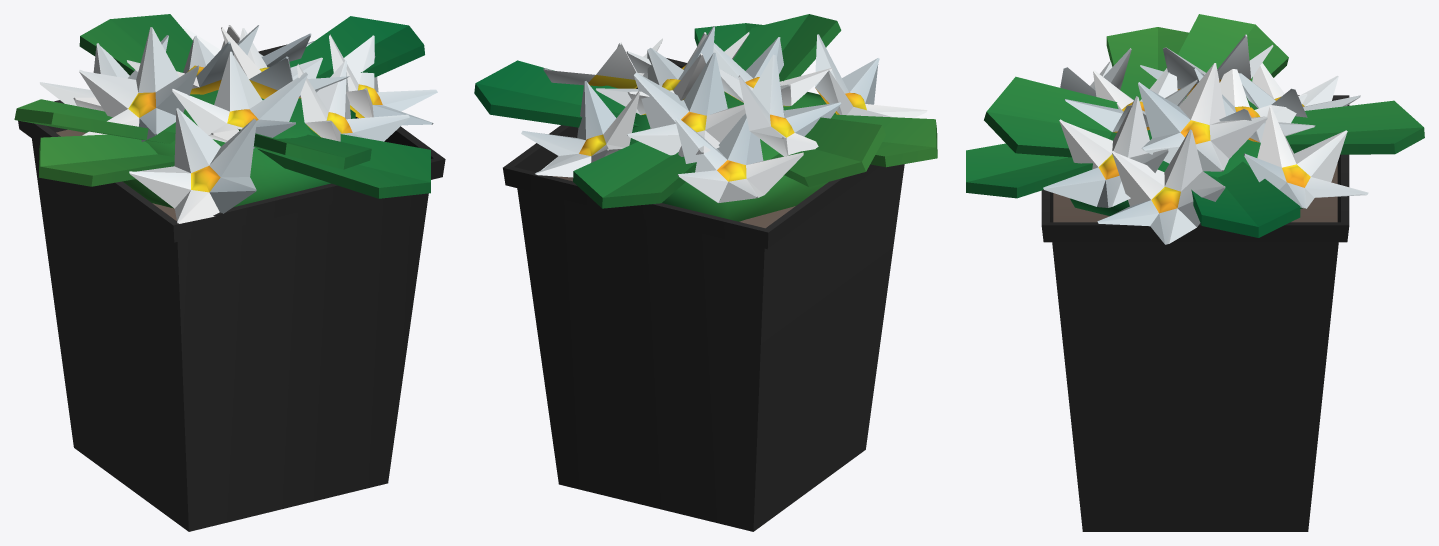
Rendered from FlowerBedSingleWhite.fbx.
3 renders of one model, left to right at view 1: azimuth 30°, elevation 25°; view 2: azimuth 150°, elevation 25°; view 3: azimuth 270°, elevation 25°, orthographic. The views are drawn at different scales.
Visible parts, largest first — view 1: FlowerBedSingleWhite; view 2: FlowerBedSingleWhite; view 3: FlowerBedSingleWhite.
Part boxes in pixels (x1,y1,x2,y2): FlowerBedSingleWhite: (14,14,445,531); FlowerBedSingleWhite: (474,14,937,531); FlowerBedSingleWhite: (966,14,1424,531).
Size of the model in its own units: 0.3826 by 0.3743 by 0.3669.
